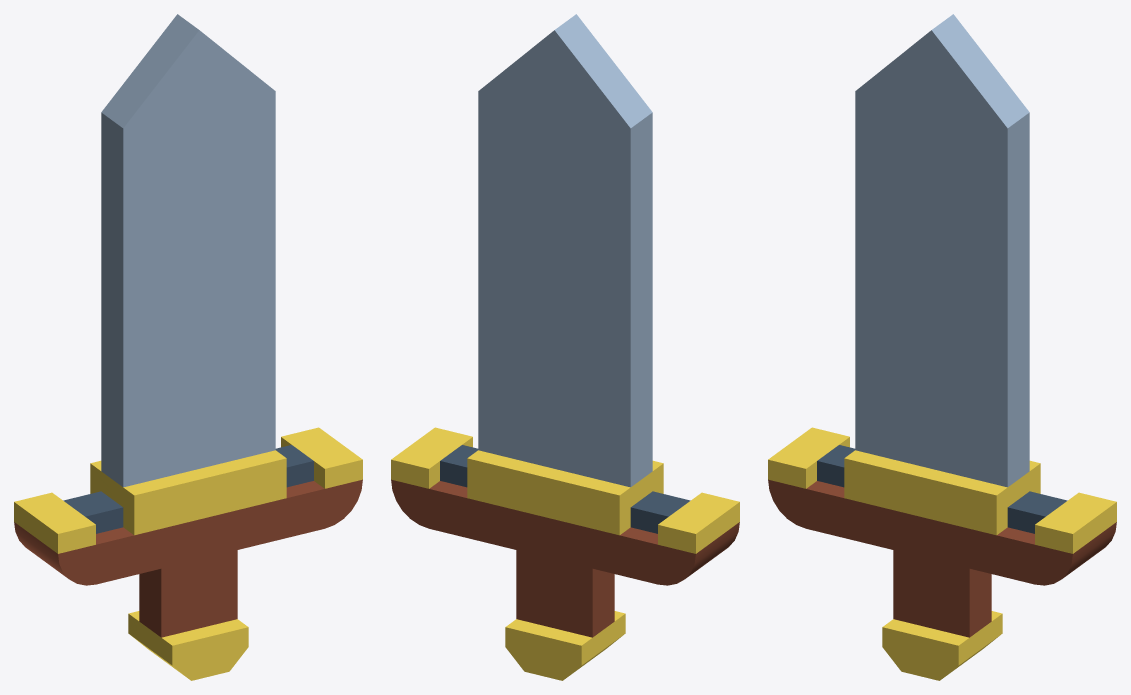
Rendered from Sword.fbx.
The picture shows the model from 3 angles, left to right: view 1: azimuth 30°, elevation 25°; view 2: azimuth 150°, elevation 25°; view 3: azimuth 330°, elevation 25°; orthographic projection.
Visible parts, largest first — view 1: generated; view 2: generated; view 3: generated.
Boxes of the visible parts, bbox=[...] form: generated: bbox=[14, 14, 362, 680]; generated: bbox=[391, 14, 739, 680]; generated: bbox=[768, 14, 1116, 680].
Bounding box in the file's own units: 80 × 160 × 20.
Materials: 1 (1 with a texture image).
